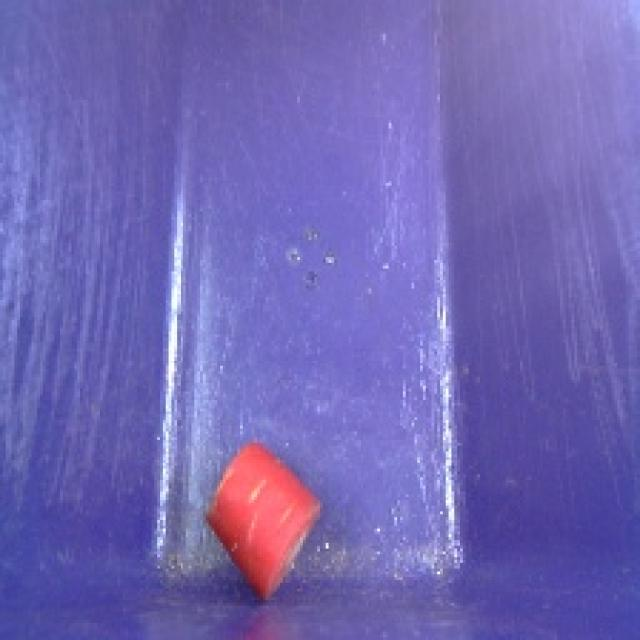carrots: (194, 433, 327, 606)
